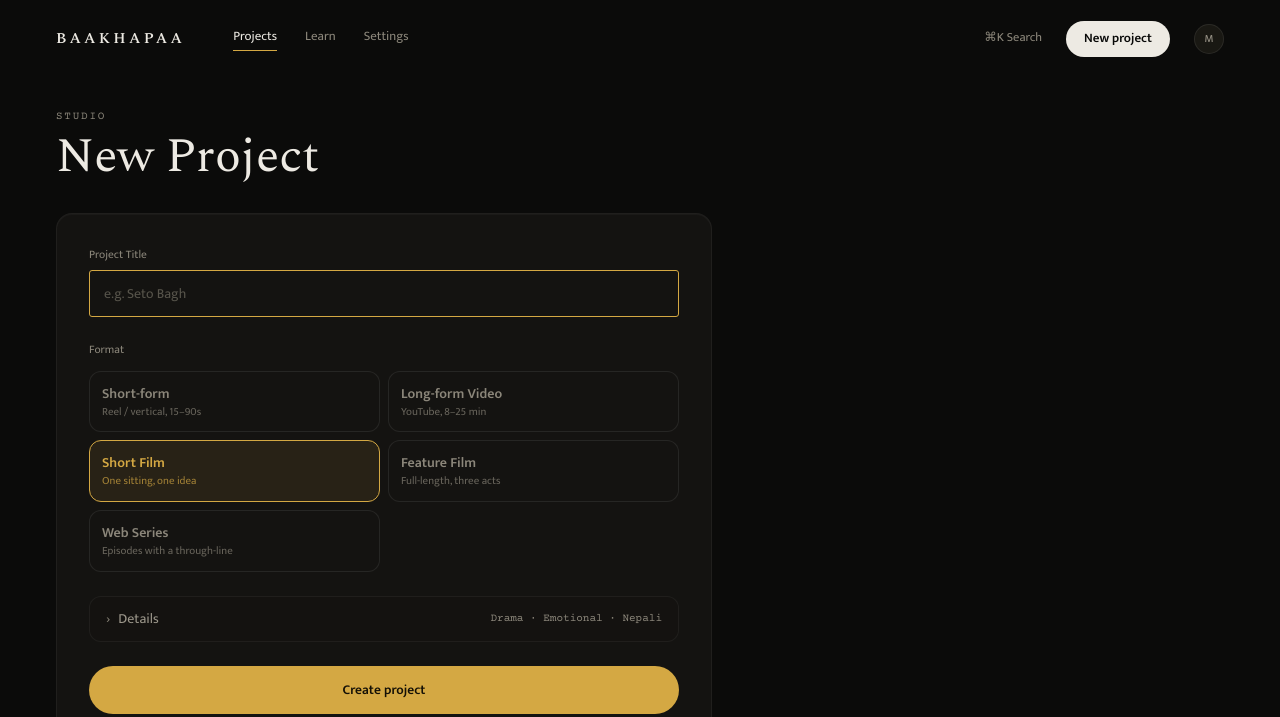
Scenario: at the free-plan limit, both ways out are links
The width and height of the screenshot is (1280, 717).
In the field labelled "Project Title": (384, 294) [89,270,679,317], type "T"
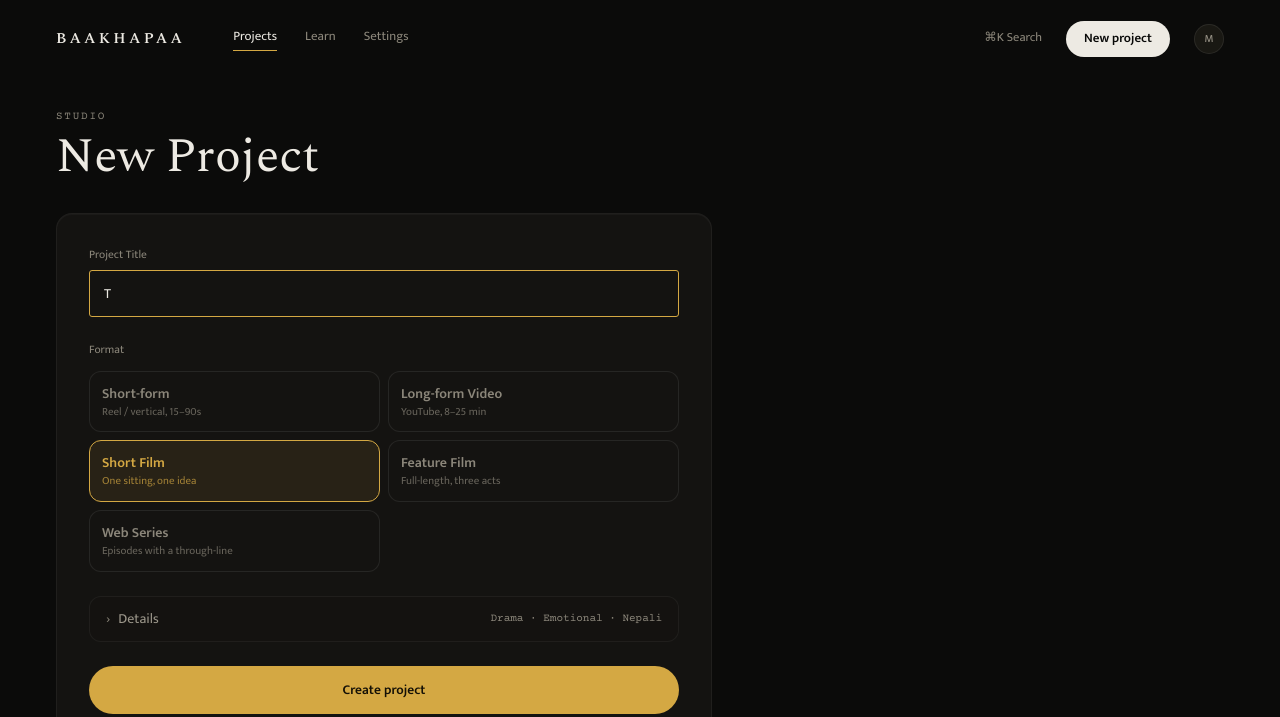
Click the button "Create project": click(384, 690) [89,666,679,714]
(page scrolled)
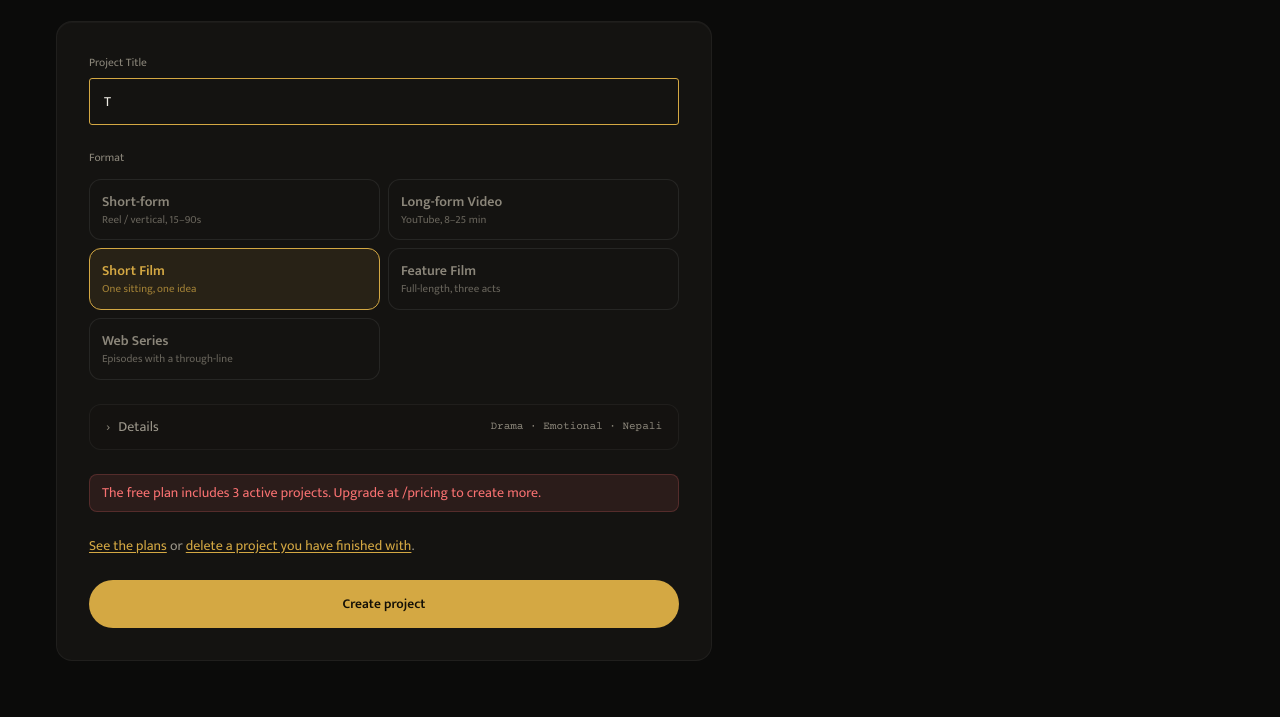
Check: the link "See the plans" is shown, box [89,534,167,557]
Check: the link "delete a project you have finished with" is shown, box [186,534,412,557]
